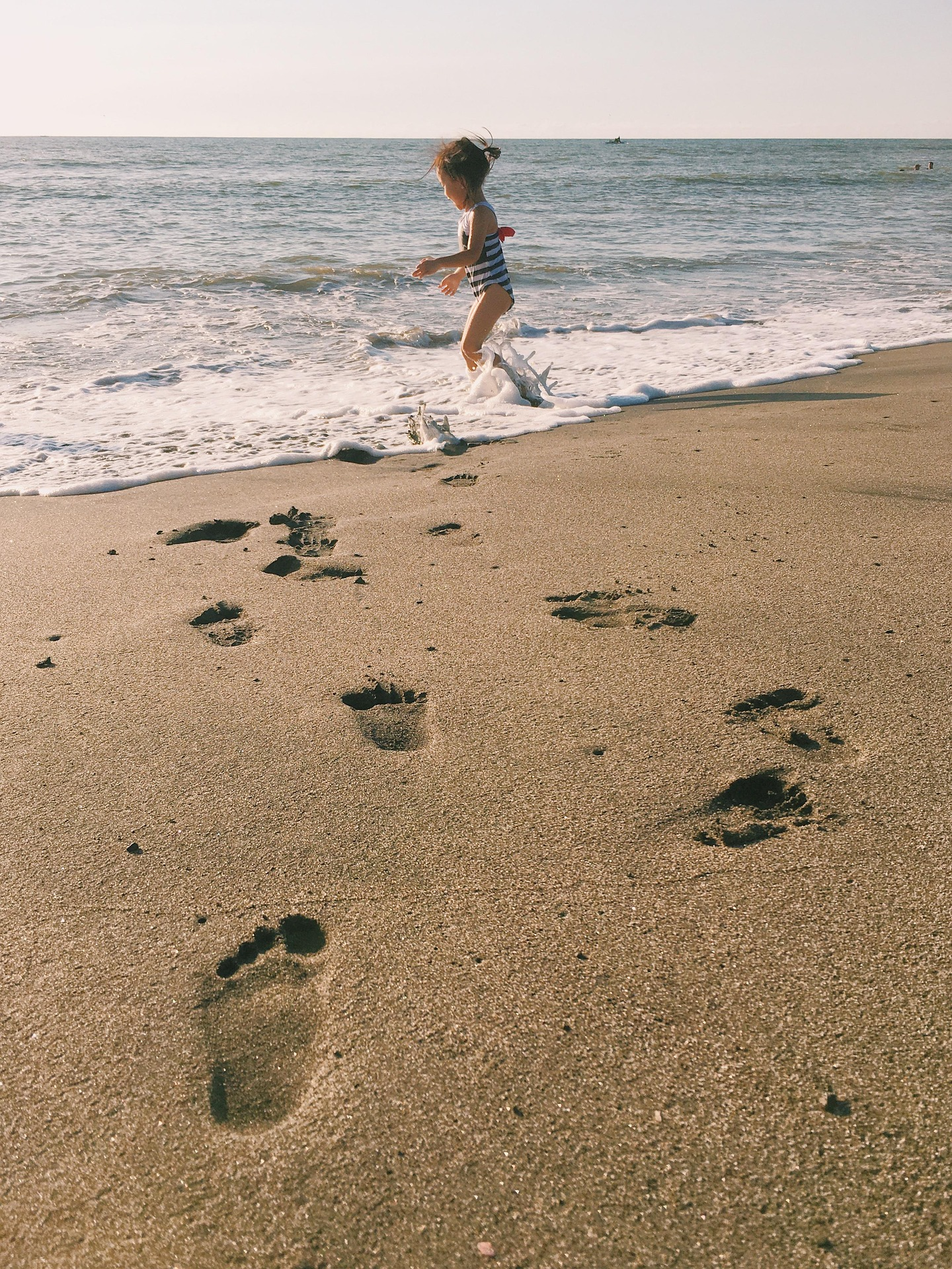human_foot_print: (199, 913, 326, 1131), (695, 768, 813, 847), (726, 685, 845, 757), (263, 506, 365, 582), (341, 680, 426, 751), (546, 590, 695, 630), (269, 506, 337, 556), (190, 601, 253, 646), (158, 519, 258, 545), (442, 473, 477, 488)
